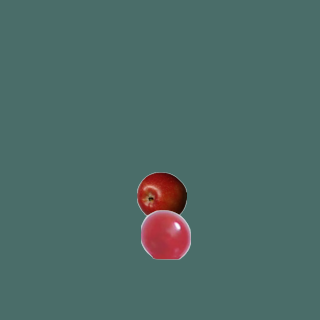Apple Braeburn: (136, 171, 186, 221)
Redcurrant: (140, 209, 190, 259)
